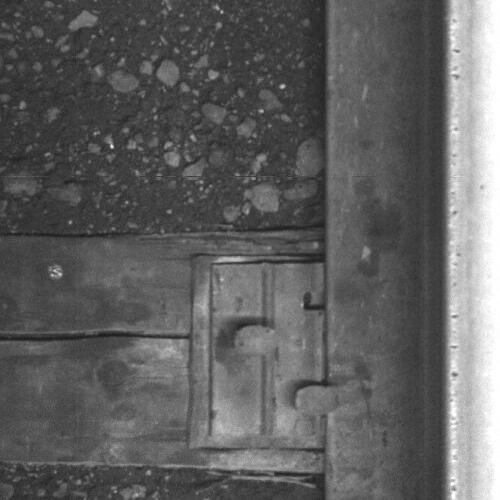do: (209, 263, 345, 436)
rail: (444, 1, 500, 500)
tie_wood: (1, 235, 324, 473)
wood_crack: (1, 327, 191, 348)
